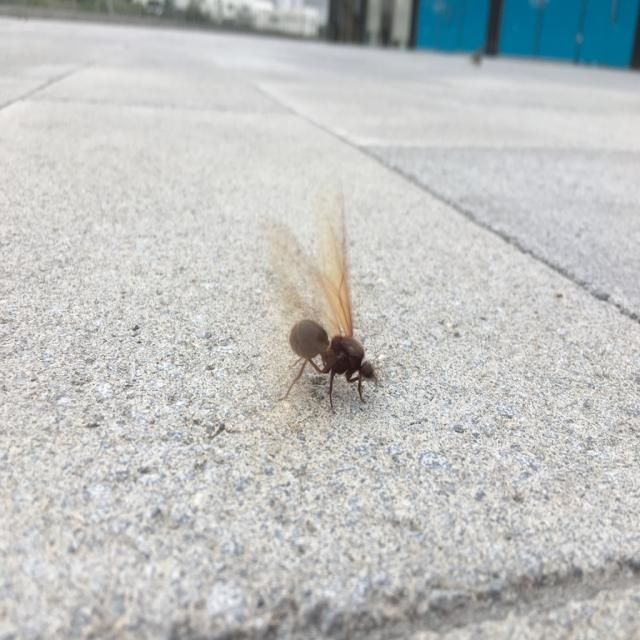Alive-Female-Alate: (266, 177, 384, 416)
